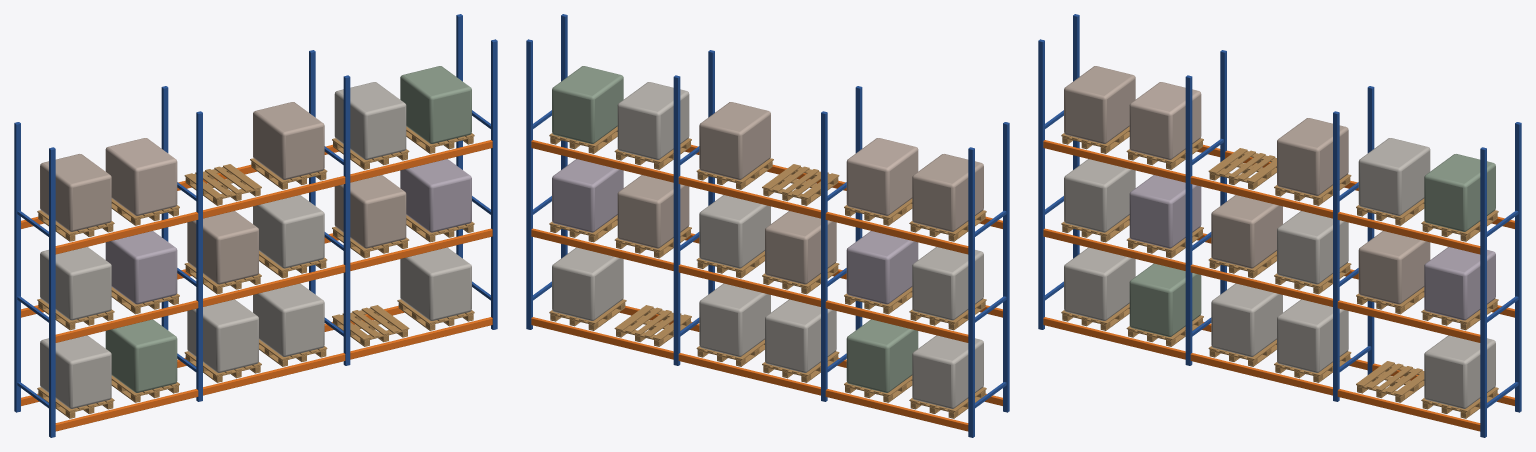
The model's file is pallet_rack_b.fbx.
3 renders of one model, left to right at view 1: azimuth 30°, elevation 25°; view 2: azimuth 150°, elevation 25°; view 3: azimuth 330°, elevation 25°, orthographic.
Visible parts, largest first — view 1: pallet_rack_b; view 2: pallet_rack_b; view 3: pallet_rack_b.
Part boxes in pixels (box(x1,y1,x2,y2)): pallet_rack_b: box(14, 14, 497, 437); pallet_rack_b: box(526, 14, 1009, 437); pallet_rack_b: box(1038, 14, 1521, 437).
Bounding box in the file's own units: 8.19 × 5.05 × 1.17.
